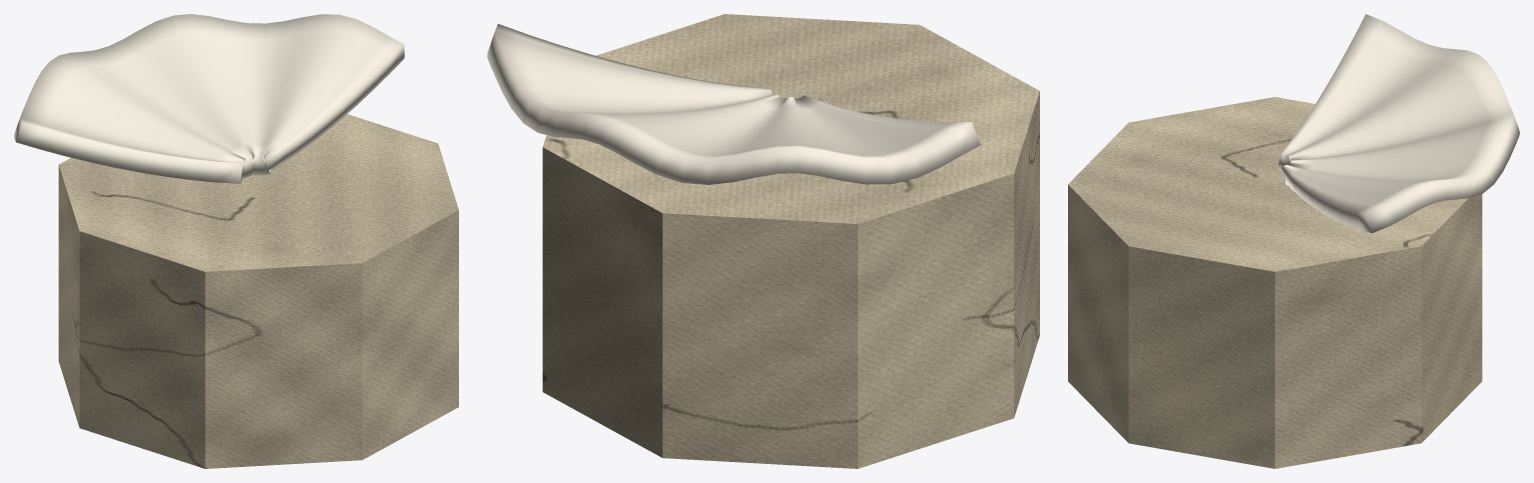
File: shell_sculpture.glb
The picture shows the model from 3 angles, left to right: view 1: azimuth 30°, elevation 25°; view 2: azimuth 150°, elevation 25°; view 3: azimuth 270°, elevation 25°; orthographic projection. The views are drawn at different scales.
Parts seen in each view (by area): view 1: shell_sculpture; view 2: shell_sculpture; view 3: shell_sculpture.
Part boxes in pixels (x1,y1,x2,y2): shell_sculpture: [14, 14, 458, 468]; shell_sculpture: [487, 14, 1039, 468]; shell_sculpture: [1068, 14, 1519, 468].
Size of the model in its own units: 0.8745 by 0.586 by 0.8729.
Materials: 2 (1 with a texture image).
